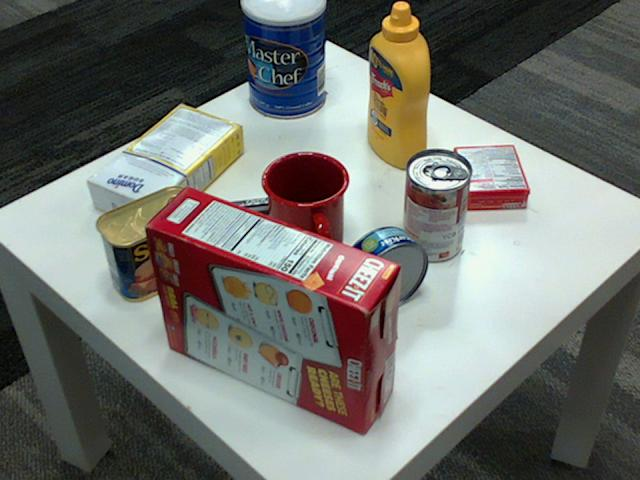cracker_box: (143, 186, 398, 431)
gelatin_box: (453, 145, 531, 208)
large_marker: (203, 192, 311, 224)
master_chef_can: (239, 0, 324, 118)
mug: (261, 148, 350, 256)
mustard_bottle: (367, 2, 428, 168)
potted_meat_can: (96, 185, 205, 302)
sugar_box: (88, 102, 244, 229)
tomato_soup_can: (401, 148, 471, 261)
tuna_fish_can: (340, 225, 428, 312)
